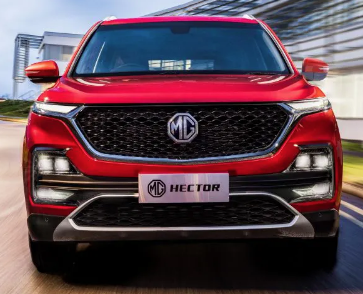car: (19, 14, 344, 282)
